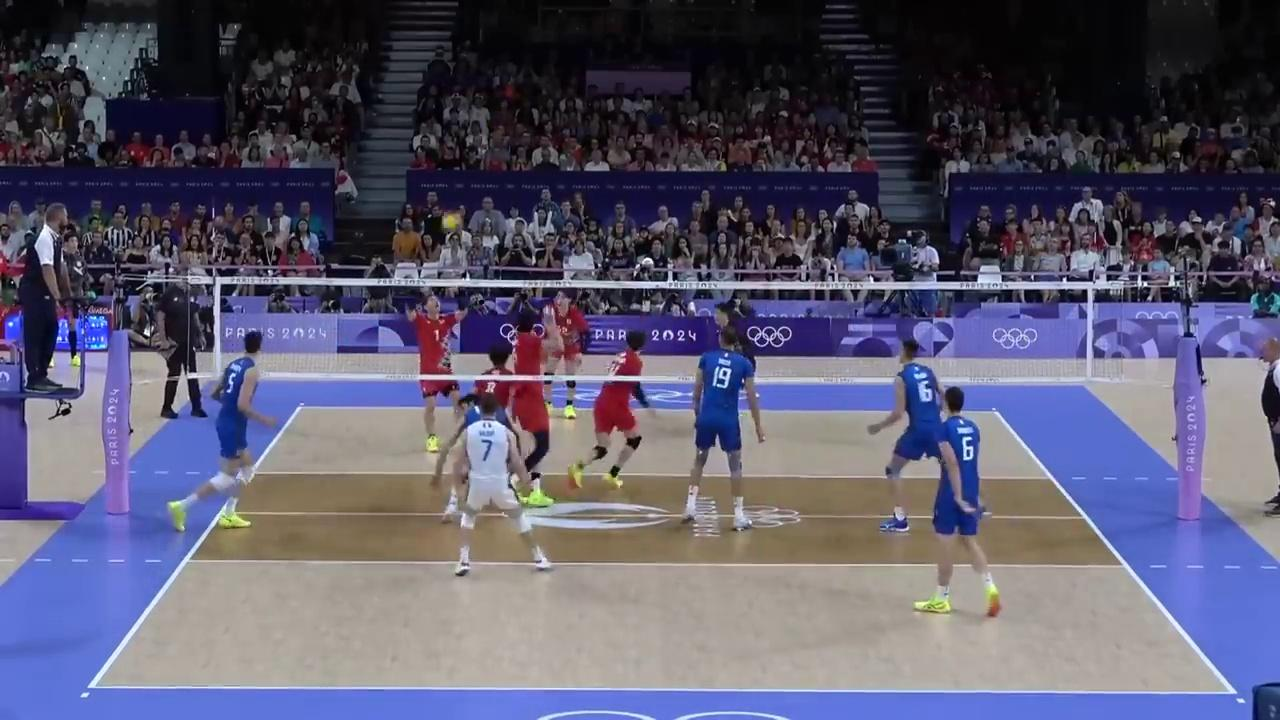ball: (443, 212, 462, 228)
